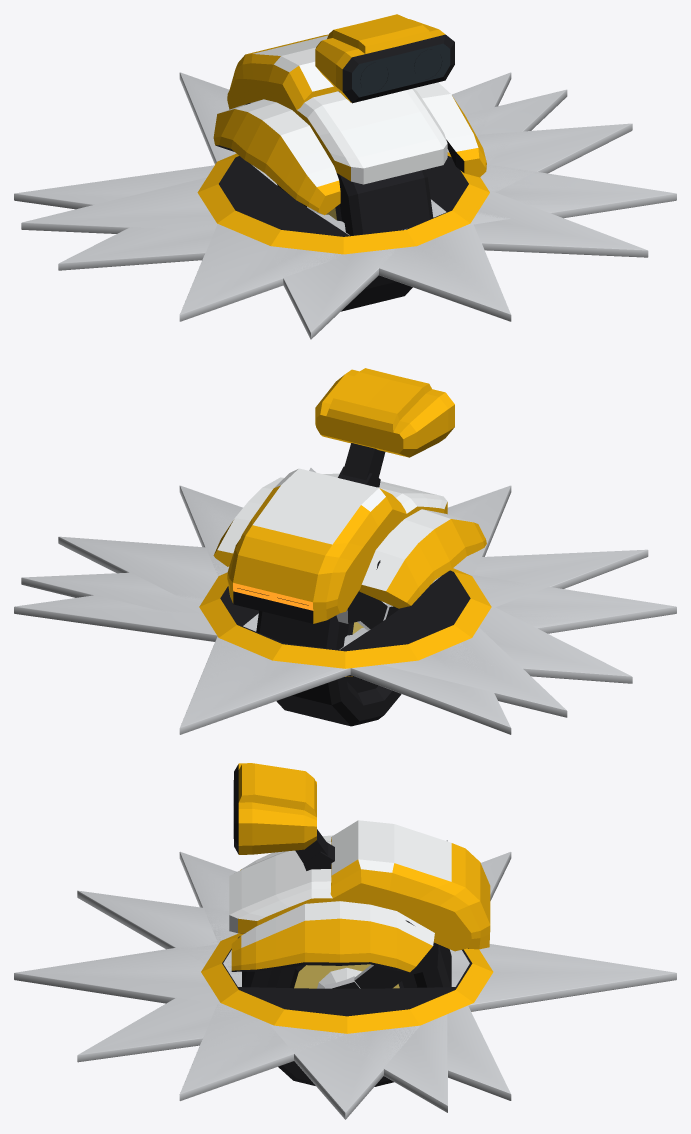
Rendered from grass_bot.glb.
3 renders of one model, top to bottom at view 1: azimuth 30°, elevation 25°; view 2: azimuth 150°, elevation 25°; view 3: azimuth 270°, elevation 25°, orthographic.
Visible parts, largest first — view 1: blade_tier_3, blade_tier_2, blade_tier_4, blade_container, side_fender, central_body, blade_tier_1, wheel, head, batery_cover, screen_display; view 2: blade_tier_2, batery_cover, blade_tier_3, blade_tier_4, blade_container, blade_tier_1, head, side_fender, wheel, neck, central_body, low_arm (+1 smaller); view 3: blade_tier_2, blade_tier_3, batery_cover, blade_tier_1, blade_container, side_fender, blade_tier_4, head, central_body, wheel, low_arm, neck.
Part boxes in pixels (box(x1,y1,x2,y2)): blade_tier_3: box(21, 73, 648, 339); blade_tier_2: box(58, 72, 632, 321); blade_tier_4: box(14, 72, 673, 313); blade_container: box(197, 152, 489, 254); side_fender: box(213, 82, 486, 215); central_body: box(282, 88, 447, 184); blade_tier_1: box(179, 73, 676, 321); wheel: box(317, 169, 433, 311); head: box(315, 14, 454, 103); batery_cover: box(227, 34, 337, 112); screen_display: box(352, 43, 450, 97); blade_tier_2: box(58, 485, 632, 734); batery_cover: box(227, 468, 407, 623); blade_tier_3: box(21, 468, 648, 721); blade_tier_4: box(14, 486, 594, 734); blade_container: box(199, 568, 491, 676); blade_tier_1: box(179, 485, 676, 726); head: box(315, 368, 454, 457); side_fender: box(213, 477, 486, 608); wheel: box(256, 601, 401, 726); neck: box(338, 443, 385, 487); central_body: box(323, 473, 447, 530); low_arm: box(357, 596, 400, 630); blade_tier_2: box(14, 941, 676, 1119); blade_tier_3: box(77, 840, 662, 1112); batery_cover: box(330, 820, 490, 951); blade_tier_1: box(179, 851, 673, 1100); blade_container: box(201, 933, 493, 1033); side_fender: box(231, 835, 434, 972); blade_tier_4: box(18, 852, 670, 1100); head: box(233, 763, 316, 854); central_body: box(229, 841, 359, 933); wheel: box(242, 945, 451, 1086); low_arm: box(325, 964, 408, 988); neck: box(295, 829, 334, 870).
Bounding box in the file's own units: 3.32 × 1.65 × 3.32.
